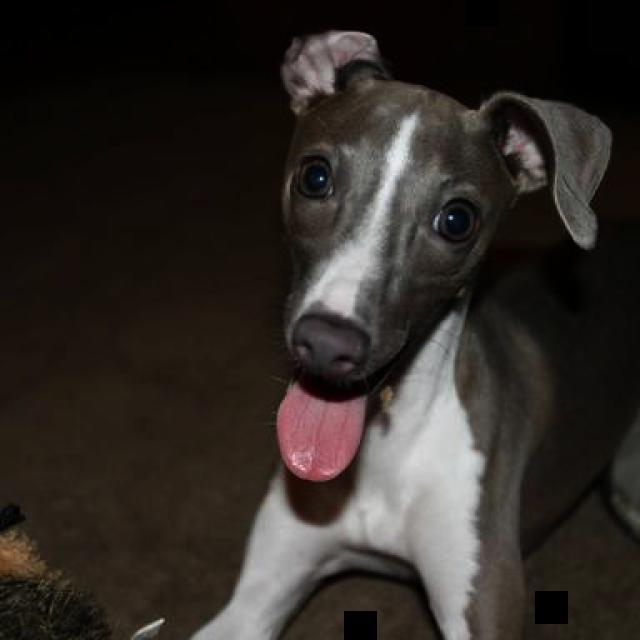puppy-dog: (191, 29, 640, 640)
